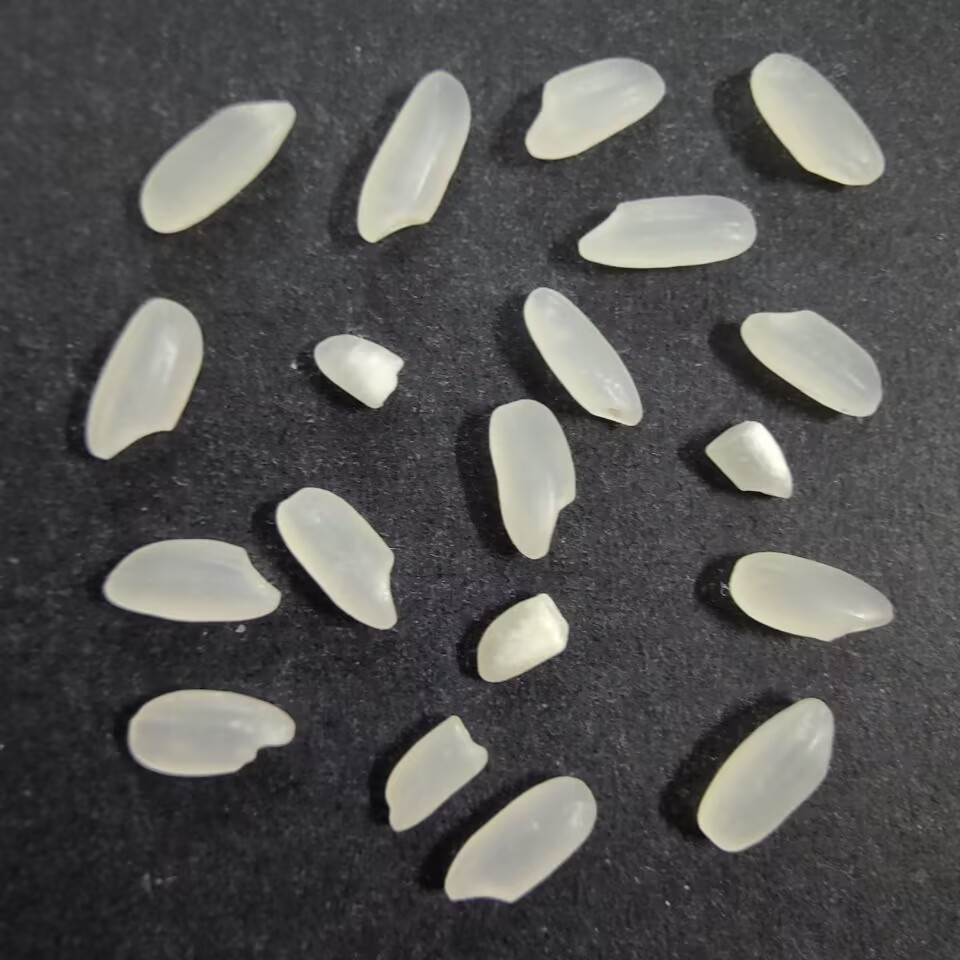broken: (380, 712, 495, 835), (476, 587, 571, 689), (703, 419, 795, 509), (310, 333, 407, 410)
rice: (133, 93, 298, 241), (693, 693, 835, 860), (351, 64, 473, 247), (83, 293, 204, 466), (748, 50, 890, 190), (275, 483, 404, 635), (520, 284, 647, 430), (126, 683, 303, 782), (723, 548, 900, 645), (739, 305, 884, 423), (520, 51, 670, 165), (95, 533, 284, 623), (484, 397, 581, 563), (574, 192, 761, 270)
